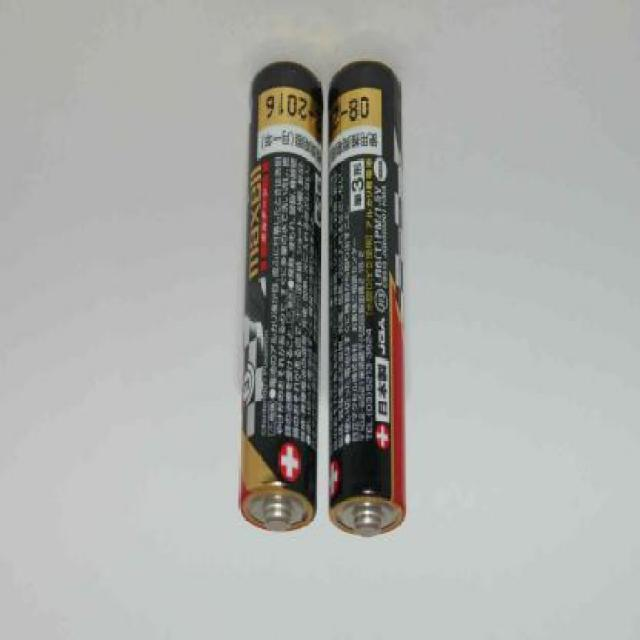hazardous waste: (224, 55, 340, 543), (323, 42, 412, 556)
